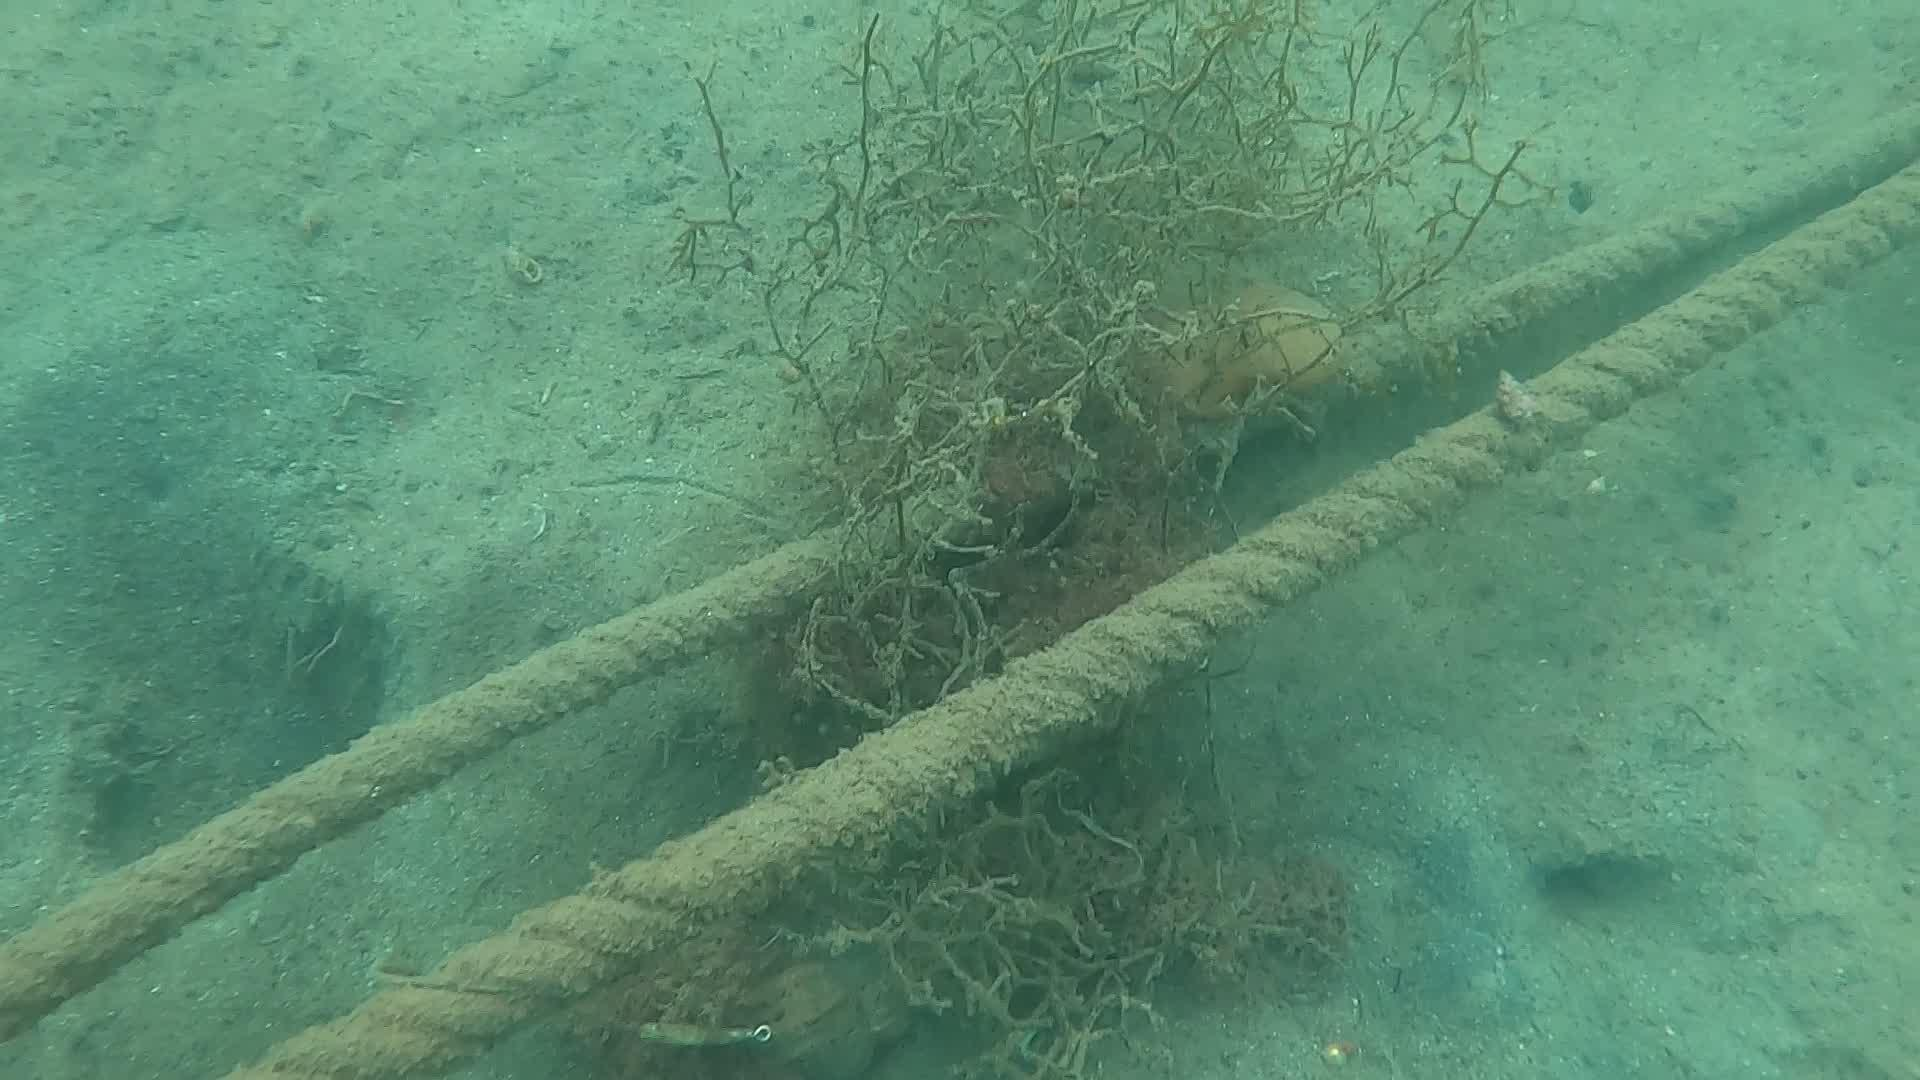rope: (0, 102, 1920, 1034), (0, 160, 1913, 1080)
